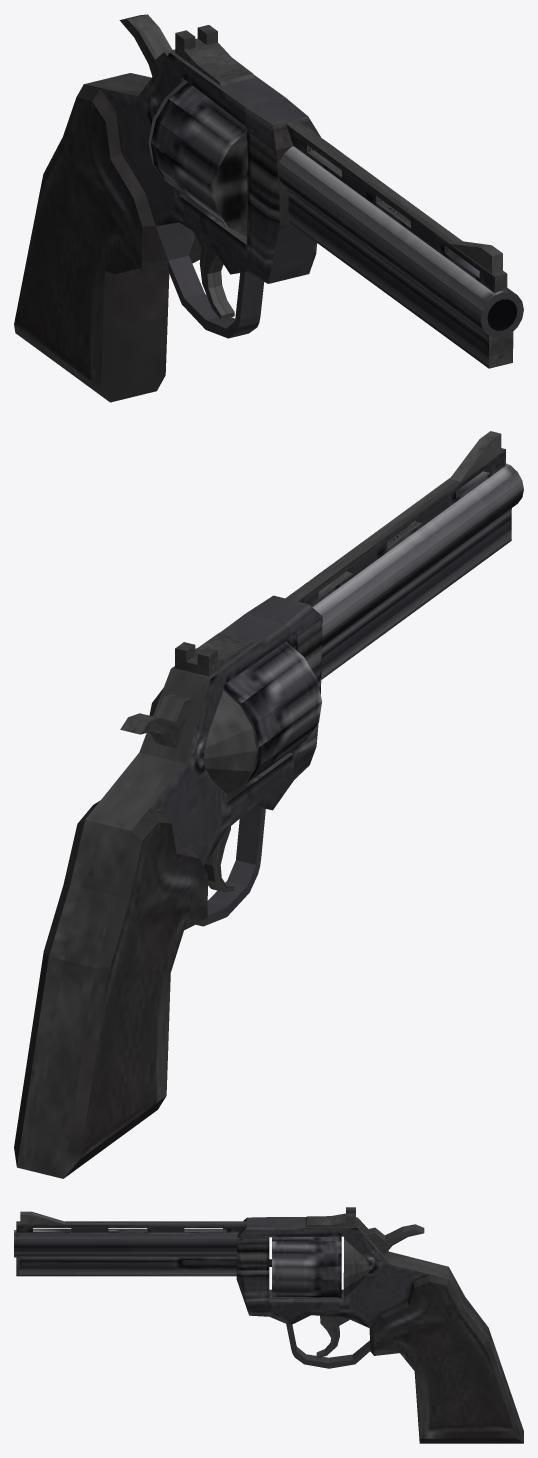
File: Python.fbx
The picture shows the model from 3 angles, top to bottom: view 1: azimuth 30°, elevation 25°; view 2: azimuth 150°, elevation 25°; view 3: azimuth 270°, elevation 25°; orthographic projection. The views are drawn at different scales.
Parts seen in each view (by area): view 1: Cube, Cube.001, Cylinder.001, Cube.003, Cube.002, Cube.004, Cube.006, Cube.005, Cube.007; view 2: Cube, Cube.001, Cylinder.001, Cube.003, Cube.002, Cylinder.002, Cube.004, Cube.005, Cube.007, Cube.006; view 3: Cube, Cube.001, Cylinder.001, Cube.003, Cube.002, Cylinder.002, Cube.005, Cube.004, Cube.006, Cube.007, Cylinder.003.
Part boxes in pixels (x1,y1,x2,y2): Cube: [14, 51, 320, 402]; Cube.001: [278, 146, 523, 337]; Cylinder.001: [151, 82, 246, 236]; Cube.003: [288, 189, 513, 368]; Cube.002: [285, 120, 507, 292]; Cube.004: [175, 25, 254, 85]; Cube.006: [193, 231, 234, 319]; Cube.005: [119, 14, 175, 76]; Cube.007: [451, 241, 502, 273]; Cube: [14, 595, 322, 1178]; Cube.001: [312, 463, 523, 646]; Cylinder.001: [223, 641, 321, 793]; Cube.003: [321, 508, 511, 679]; Cube.002: [285, 448, 505, 606]; Cylinder.002: [149, 688, 256, 793]; Cube.004: [175, 632, 253, 676]; Cube.005: [120, 694, 192, 748]; Cube.007: [450, 431, 501, 481]; Cube.006: [204, 826, 234, 892]; Cube: [236, 1217, 523, 1443]; Cube.001: [14, 1230, 237, 1257]; Cylinder.001: [272, 1236, 341, 1298]; Cube.003: [16, 1257, 236, 1276]; Cube.002: [16, 1221, 246, 1233]; Cylinder.002: [344, 1239, 369, 1297]; Cube.005: [366, 1224, 424, 1255]; Cube.004: [305, 1207, 355, 1227]; Cube.006: [316, 1315, 349, 1358]; Cube.007: [20, 1211, 65, 1224]; Cylinder.003: [181, 1259, 271, 1266].
Size of the model in its own units: 18.26 by 65.39 by 134.
1 material, 1 textured.
